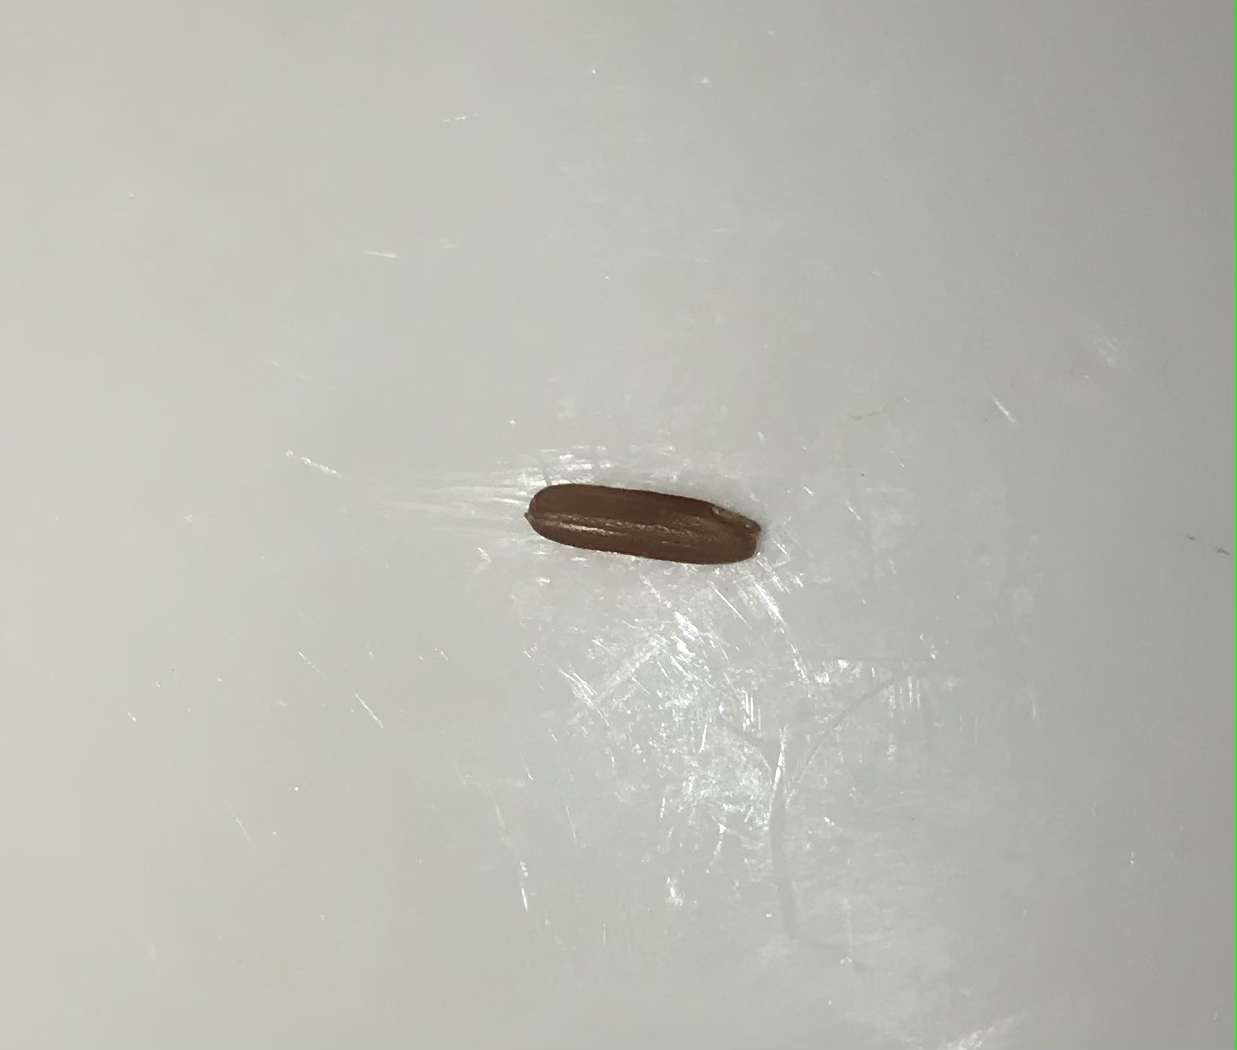Gao Lut Do: (530, 458, 766, 586)
